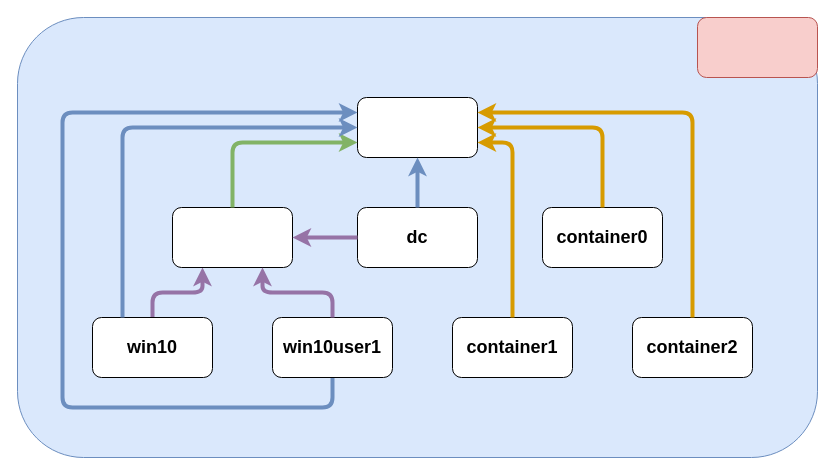
Some shapes in this 835 by 475 pixel diagram are drawn without their labels. Here are the shapes that lost their labels. From the top down, the centre of each, then its label:
At (757,47): "kali".
At (417,127): "logger".
At (232,237): "wef".
